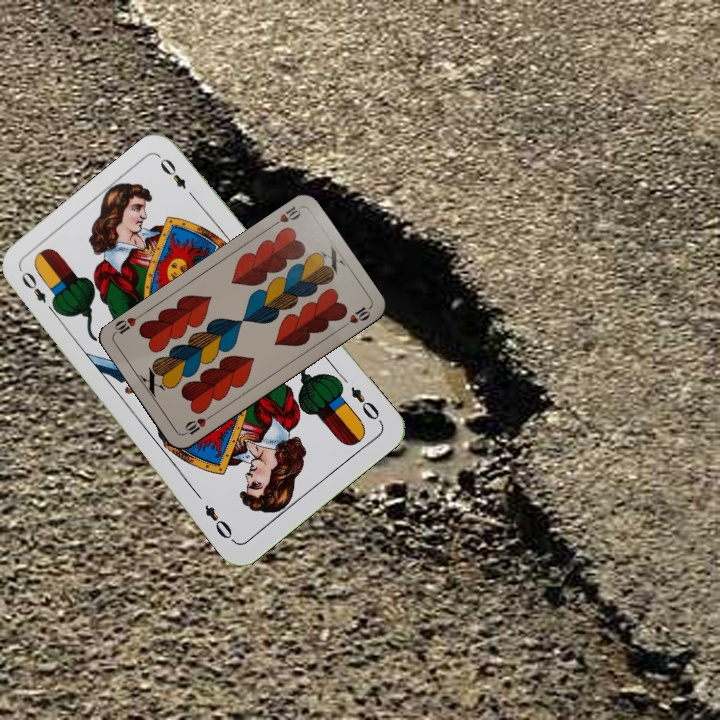EO: (17, 267, 61, 317), (346, 382, 385, 426)
H10: (180, 410, 216, 438), (267, 202, 303, 230)
